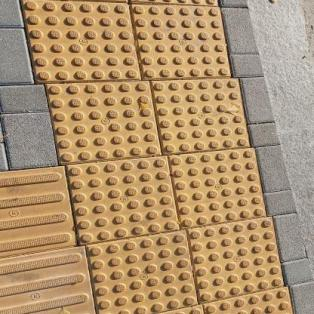Podoctatil: (0, 0, 298, 313)
